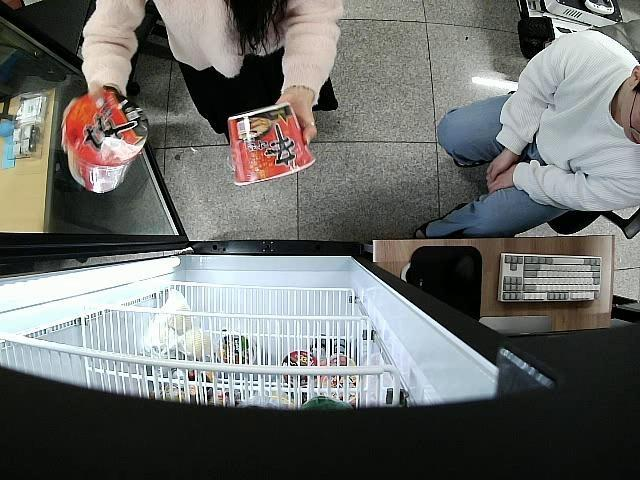01_ShinRamen_L: (62, 90, 150, 194), (226, 101, 314, 187)
